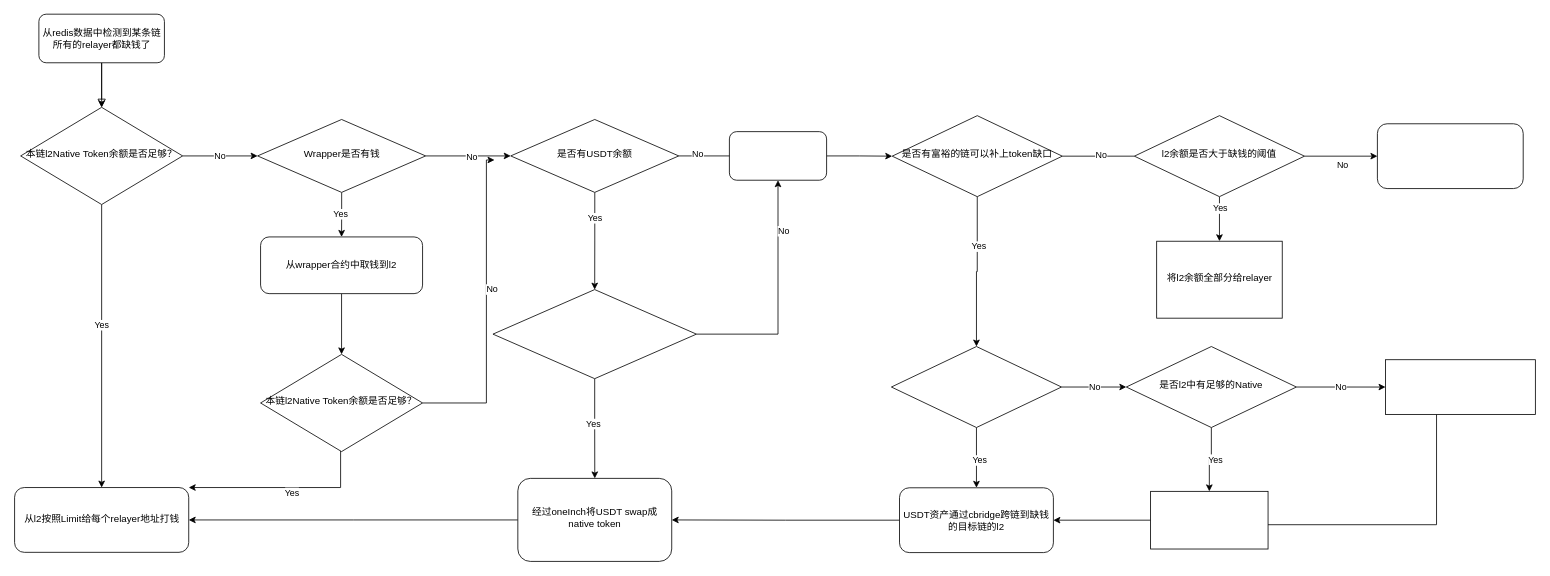
The diagram is 1550 pixels wide and 576 high, and some of its shapes have lost their labels. The shapes that lost their labels are listed below. From the top down, each one's centre as x and y in pixels, then its label:
At pixel 778 155: "计算目标token缺口".
At pixel 1450 156: "没有充足的可用资金，需要外部资金支持".
At pixel 594 334: "USDT+ l2 native token 余额是否足够".
At pixel 976 387: "富裕的链是否含有足够的USDT".
At pixel 1460 386: "富裕链从Wrapper中取钱".
At pixel 1209 520: "通过OneInch将富裕链的Native token Swap成USDT".
